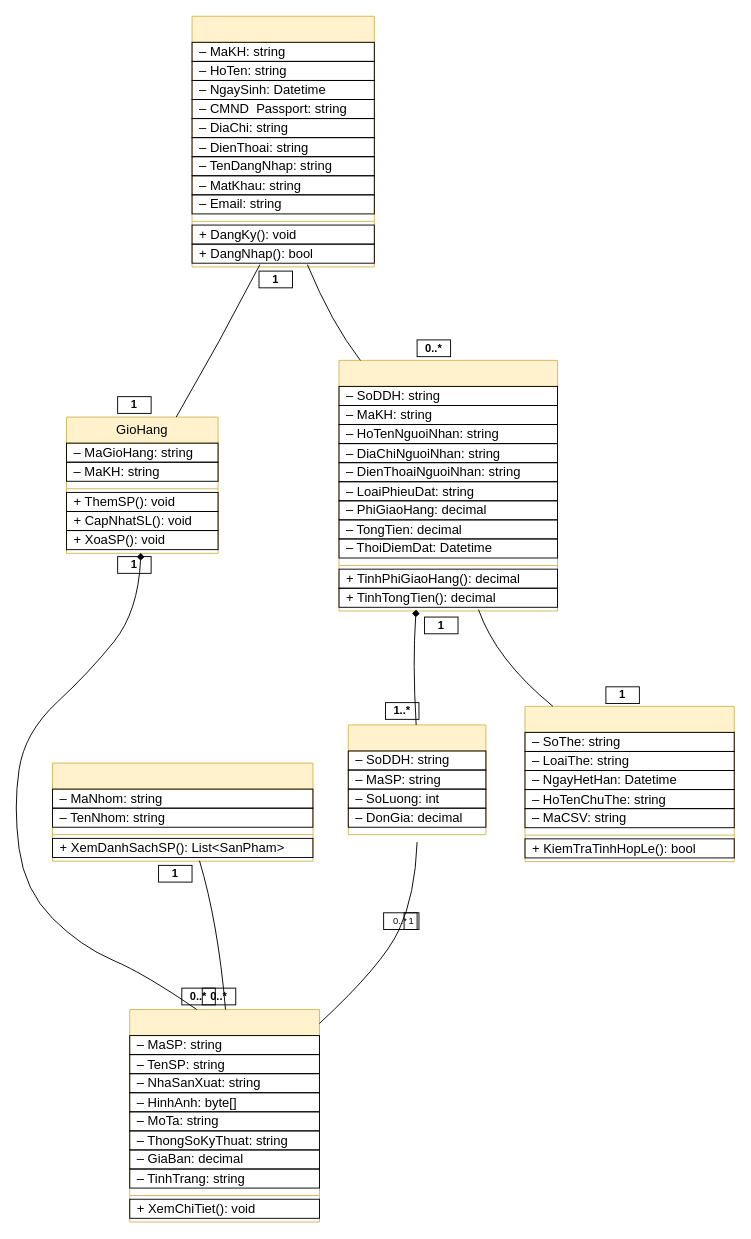
Image size: 751x1239. Some labels were removed from this diagram. The box of each missing label's shape, as (x1, y1, x2, y2) in pixels:
ChiTietDonHang: (347, 724, 486, 835)
DonHang: (338, 359, 558, 611)
KhachHang: (191, 15, 374, 267)
NhomSanPham: (52, 762, 313, 861)
SanPham: (129, 1009, 319, 1222)
TheTinDung: (524, 705, 734, 862)
